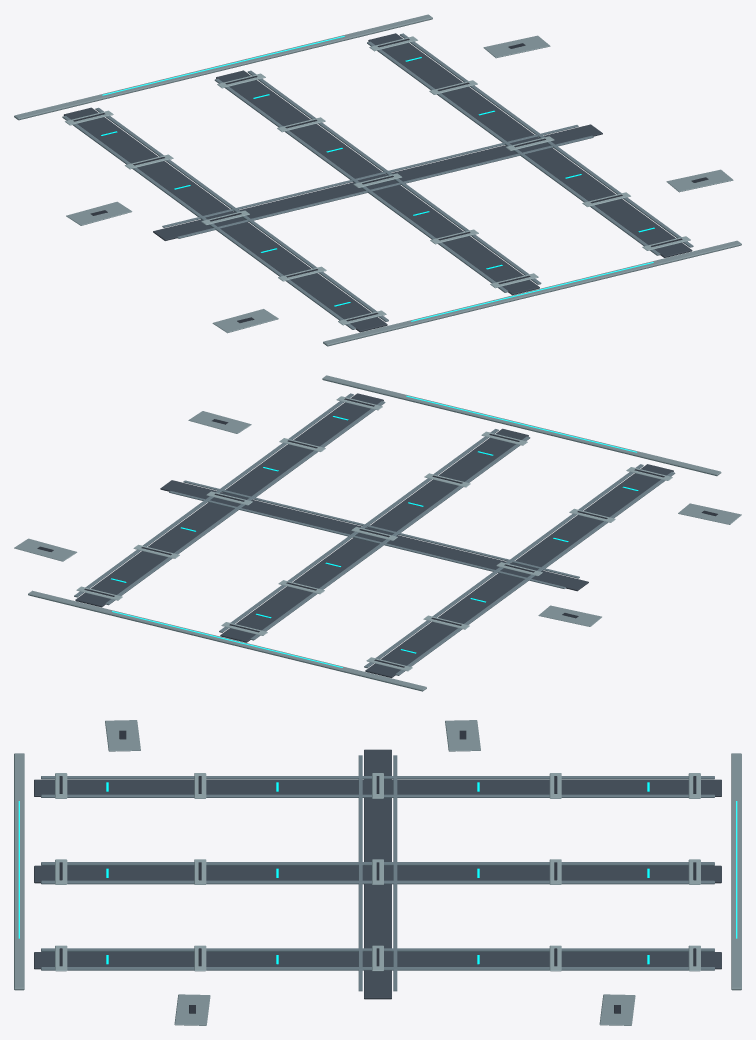
File: sector_1_data_trench.glb
3 renders of one model, top to bottom at view 1: azimuth 30°, elevation 25°; view 2: azimuth 150°, elevation 25°; view 3: azimuth 270°, elevation 25°, orthographic. The views are drawn at different scales.
Parts seen in each view (by area): view 1: DataTrenchRecessedFloorLane0, DataTrenchRecessedFloorLane1, DataTrenchRecessedFloorLane2, DataTrenchCrossCutServiceChannel, DataTrenchEndMemoryBus0, DataTrenchEndMemoryBus1, DataTrenchLeftRaisedRim1, DataTrenchRightRaisedRim1, DataTrenchLeftRaisedRim2, DataTrenchRightRaisedRim0, DataTrenchRightRaisedRim2, DataTrenchLeftRaisedRim0 (+6 smaller); view 2: DataTrenchRecessedFloorLane1, DataTrenchRecessedFloorLane2, DataTrenchRecessedFloorLane0, DataTrenchCrossCutServiceChannel, DataTrenchEndMemoryBus0, DataTrenchEndMemoryBus1, DataTrenchLeftRaisedRim1, DataTrenchLeftRaisedRim2, DataTrenchRightRaisedRim1, DataTrenchRightRaisedRim0, DataTrenchRightRaisedRim2, DataTrenchLeftRaisedRim0 (+6 smaller); view 3: DataTrenchRecessedFloorLane1, DataTrenchRecessedFloorLane0, DataTrenchRecessedFloorLane2, DataTrenchCrossCutServiceChannel, DataTrenchRightRaisedRim1, DataTrenchEndMemoryBus0, DataTrenchEndMemoryBus1, DataTrenchLeftRaisedRim1, DataTrenchLeftRaisedRim2, DataTrenchRightRaisedRim2, DataTrenchRightRaisedRim0, DataTrenchLeftRaisedRim0 (+6 smaller).
Part boxes in pixels (x1=…): DataTrenchRecessedFloorLane0: x1=63, y1=107, x2=387, y2=332; DataTrenchRecessedFloorLane1: x1=216, y1=70, x2=539, y2=295; DataTrenchRecessedFloorLane2: x1=368, y1=33, x2=692, y2=257; DataTrenchCrossCutServiceChannel: x1=153, y1=124, x2=602, y2=240; DataTrenchEndMemoryBus0: x1=323, y1=240, x2=741, y2=346; DataTrenchEndMemoryBus1: x1=14, y1=14, x2=432, y2=120; DataTrenchLeftRaisedRim1: x1=214, y1=78, x2=508, y2=292; DataTrenchRightRaisedRim1: x1=247, y1=70, x2=541, y2=284; DataTrenchLeftRaisedRim2: x1=367, y1=41, x2=660, y2=255; DataTrenchRightRaisedRim0: x1=95, y1=107, x2=388, y2=321; DataTrenchRightRaisedRim2: x1=400, y1=33, x2=693, y2=247; DataTrenchLeftRaisedRim0: x1=62, y1=115, x2=356, y2=329; DataTrenchRecessedFloorLane1: x1=220, y1=428, x2=528, y2=642; DataTrenchRecessedFloorLane2: x1=75, y1=393, x2=383, y2=607; DataTrenchRecessedFloorLane0: x1=365, y1=464, x2=673, y2=677; DataTrenchCrossCutServiceChannel: x1=160, y1=480, x2=588, y2=591; DataTrenchEndMemoryBus0: x1=322, y1=375, x2=721, y2=476; DataTrenchEndMemoryBus1: x1=28, y1=590, x2=426, y2=691; DataTrenchLeftRaisedRim1: x1=250, y1=436, x2=530, y2=640; DataTrenchLeftRaisedRim2: x1=105, y1=401, x2=385, y2=605; DataTrenchRightRaisedRim1: x1=219, y1=429, x2=498, y2=632; DataTrenchRightRaisedRim0: x1=364, y1=464, x2=643, y2=668; DataTrenchRightRaisedRim2: x1=74, y1=393, x2=353, y2=597; DataTrenchLeftRaisedRim0: x1=395, y1=472, x2=675, y2=675; DataTrenchRecessedFloorLane1: x1=34, y1=865, x2=721, y2=883; DataTrenchRecessedFloorLane0: x1=34, y1=779, x2=721, y2=796; DataTrenchRecessedFloorLane2: x1=34, y1=952, x2=721, y2=969; DataTrenchCrossCutServiceChannel: x1=364, y1=749, x2=391, y2=999; DataTrenchRightRaisedRim1: x1=41, y1=880, x2=714, y2=884; DataTrenchEndMemoryBus0: x1=14, y1=753, x2=24, y2=990; DataTrenchEndMemoryBus1: x1=731, y1=753, x2=741, y2=990; DataTrenchLeftRaisedRim1: x1=41, y1=862, x2=714, y2=865; DataTrenchLeftRaisedRim2: x1=41, y1=948, x2=714, y2=951; DataTrenchRightRaisedRim2: x1=41, y1=967, x2=714, y2=970; DataTrenchRightRaisedRim0: x1=41, y1=794, x2=714, y2=797; DataTrenchLeftRaisedRim0: x1=41, y1=776, x2=714, y2=779.
Size of the model in its own units: 46.75 by 0.4335 by 47.1.
